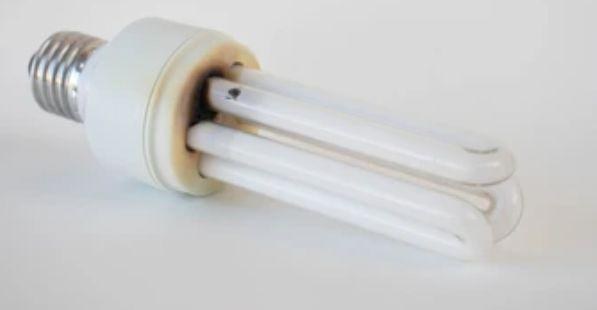light bulb: (22, 11, 529, 268)
